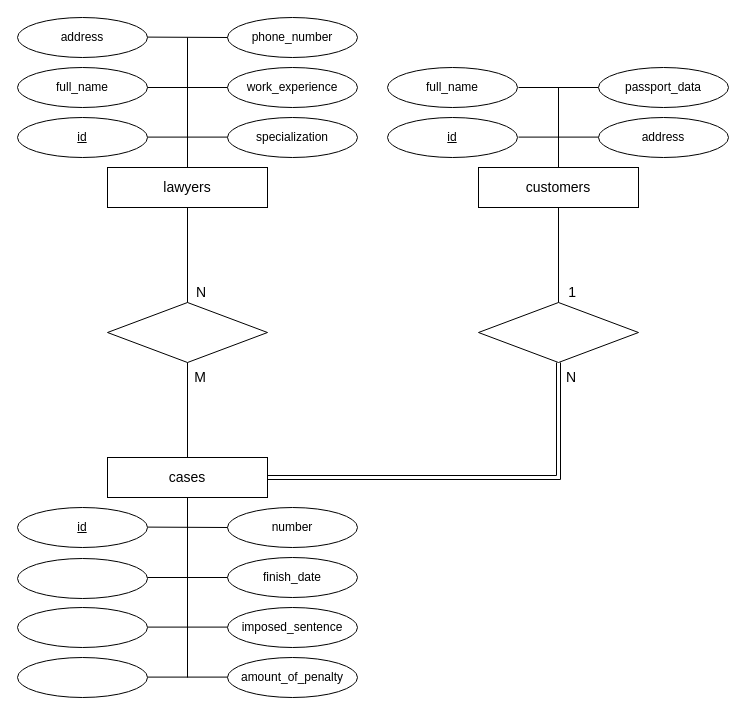
Image size: 746x715. Some labels were removed from this diagram. The shapes that lost their labels are listed below. From the top down, each one's box as (x1, y1, x2, y2) in pixels, then its label:
(106, 302, 268, 362): leads
(478, 302, 638, 362): owns
(16, 558, 148, 598): start_date
(16, 606, 148, 648): maximum_sentence
(16, 656, 148, 698): type_of_sentence
